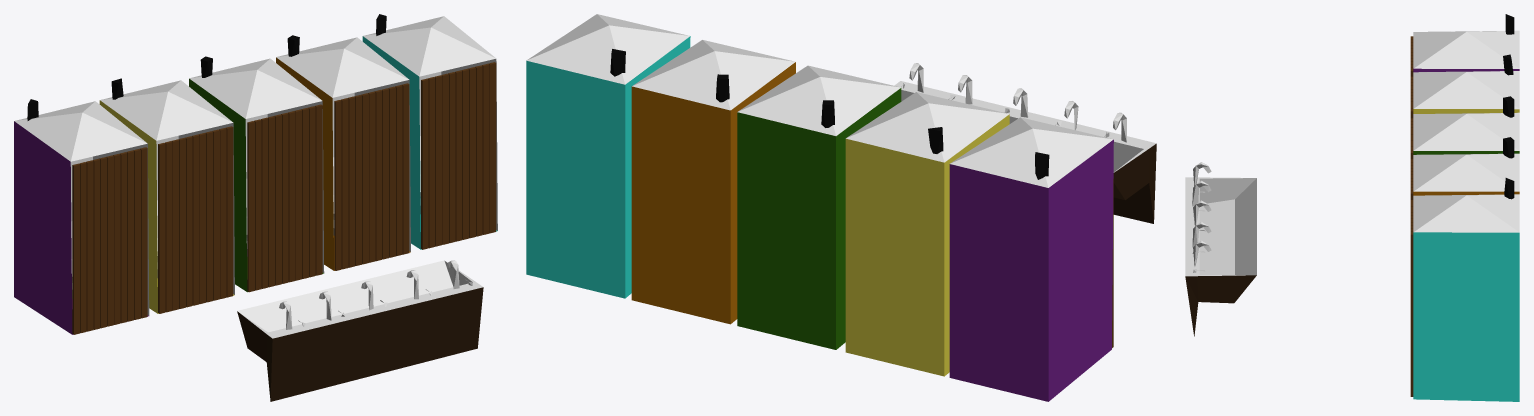
The model's file is Beach Restrooms.glb.
The picture shows the model from 3 angles, left to right: view 1: azimuth 30°, elevation 25°; view 2: azimuth 150°, elevation 25°; view 3: azimuth 270°, elevation 25°; orthographic projection. The views are drawn at different scales.
Visible parts, largest first — view 1: Bathrooms, Handwashing Sink, Door.001, Door.003, Door.004, Door, Door.002; view 2: Bathrooms, Handwashing Sink; view 3: Bathrooms, Handwashing Sink, Door.003.
Boxes of the visible parts, bbox=[...] form: Bathrooms: bbox=[14, 14, 497, 334]; Handwashing Sink: bbox=[237, 260, 483, 401]; Door.001: bbox=[247, 104, 322, 292]; Door.003: bbox=[421, 62, 496, 249]; Door.004: bbox=[72, 147, 147, 334]; Door: bbox=[158, 126, 233, 313]; Door.002: bbox=[334, 83, 409, 270]; Bathrooms: bbox=[526, 14, 1113, 401]; Handwashing Sink: bbox=[894, 63, 1156, 223]; Bathrooms: bbox=[1413, 14, 1519, 401]; Handwashing Sink: bbox=[1185, 162, 1256, 336]; Door.003: bbox=[1410, 200, 1413, 396].
Size of what is drawn, in the model's own units: 5.72 by 2.5 by 4.01.
